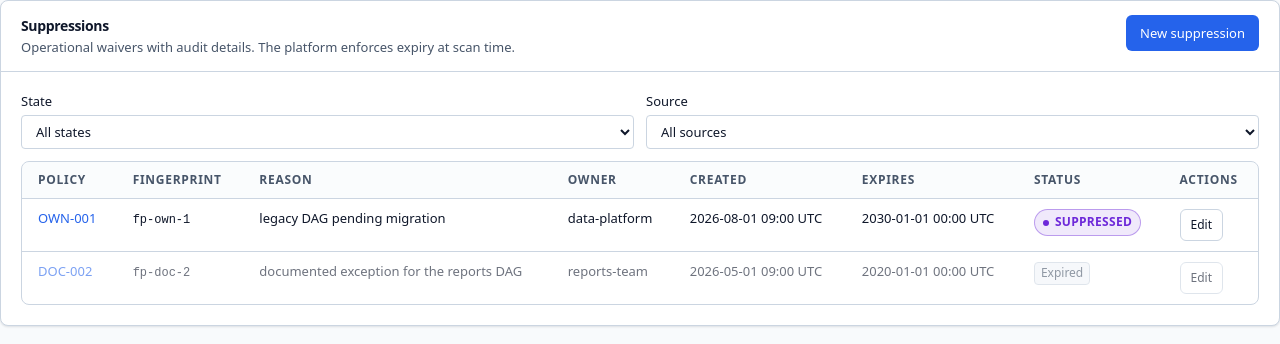
Scenario: SuppressionsPage › filters rows by state and source
This screenshot has width=1280, height=344.
Check: the text "fp-own-1" is shown, box [133, 214, 190, 228]
Step 1. Select "Expired" in the dropdown labelled "State" → (328, 132), box [21, 115, 634, 149]
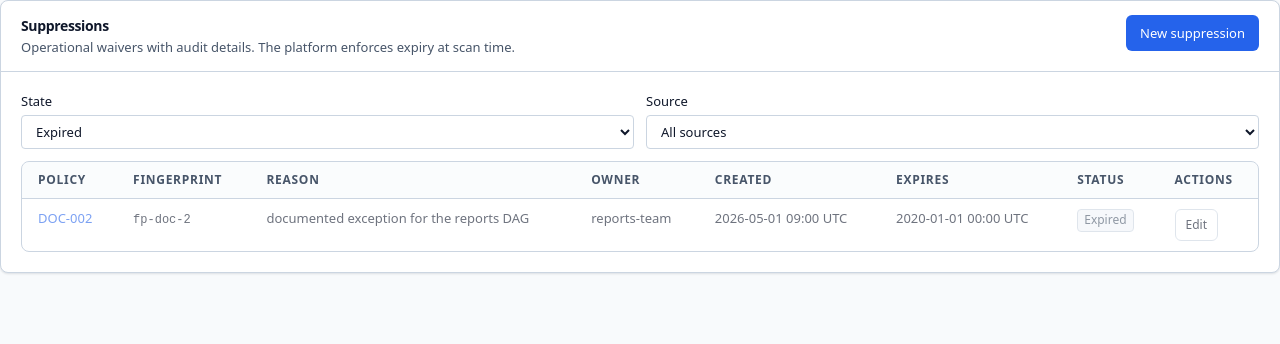
Check: the text "fp-doc-2" is shown, box [133, 214, 191, 228]
Check: the text "fp-own-1" is gone
Step 2. Select "Active" in the dropdown labelled "State" → (328, 132), box [21, 115, 634, 149]
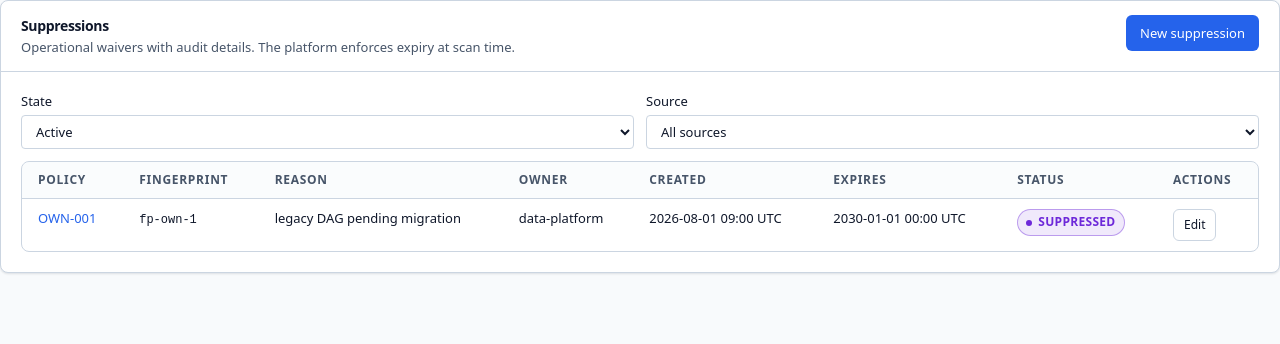
Check: the text "fp-own-1" is shown, box [139, 214, 197, 228]
Check: the text "fp-doc-2" is gone
Step 3. Select "All states" in the dropdown labelled "State" → (328, 132), box [21, 115, 634, 149]
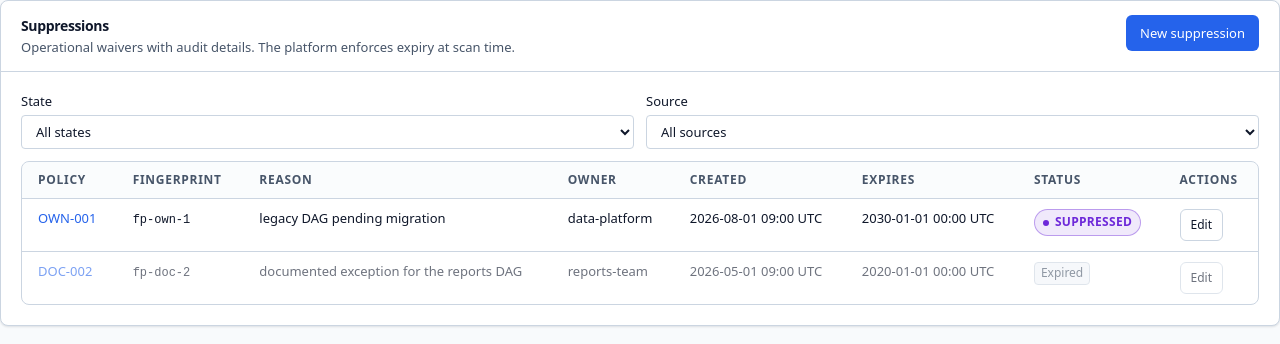
Step 4. Select "code" in the dropdown labelled "Source" → (952, 132), box [646, 115, 1259, 149]
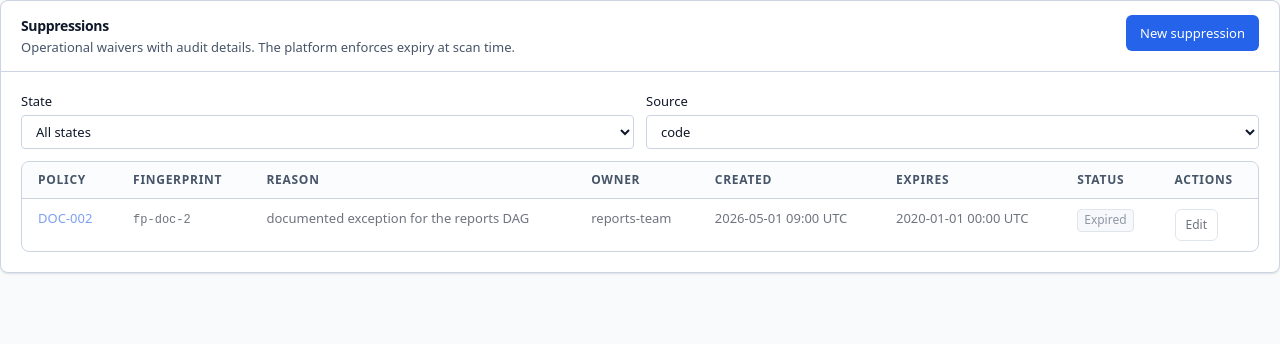
Check: the text "fp-doc-2" is shown, box [133, 214, 191, 228]
Check: the text "fp-own-1" is gone
